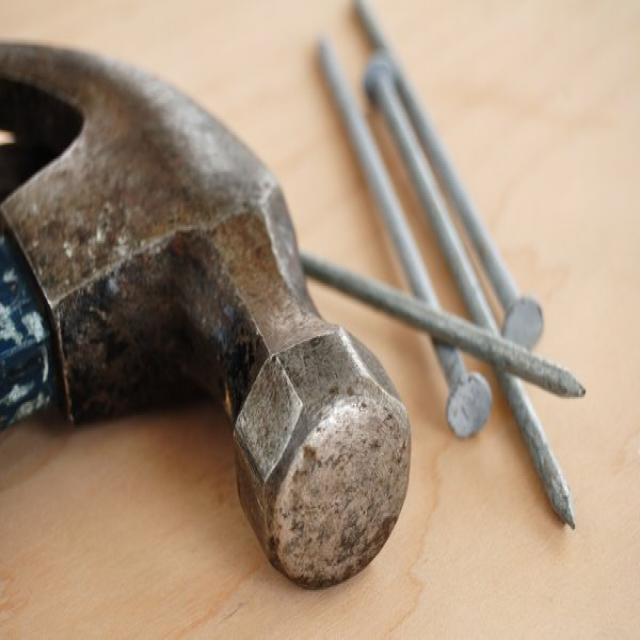hammer: (0, 30, 415, 596)
